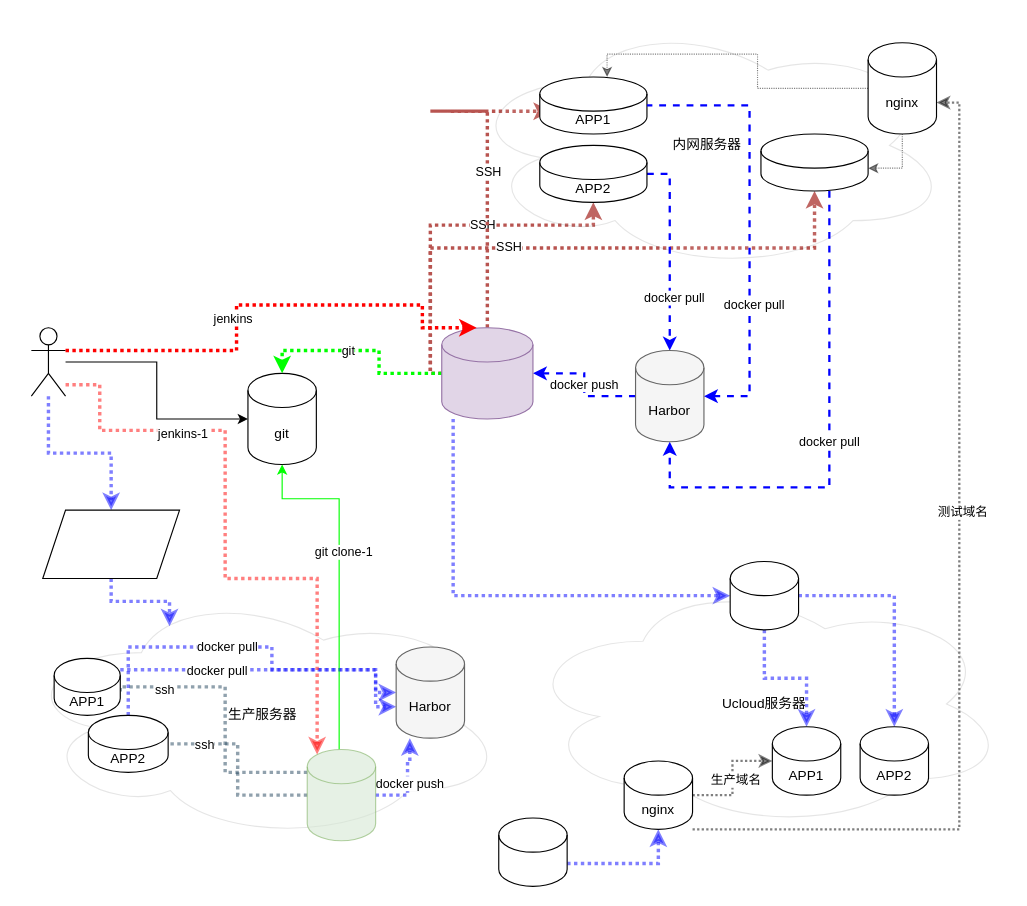
Some shapes in this 1027 by 906 pixel diagram are drawn without their labels. Each missing label, with the centre of its shape:
"APP3" belongs at pixel 814 162.
"jenkins 生产" belongs at pixel 341 794.
"jenkins/测试" belongs at pixel 487 373.
"openvpn" belongs at pixel 764 595.
"ULB" belongs at pixel 532 851.
"堡垒机" belongs at pixel 111 544.
"开发人员" belongs at pixel 48 361.
